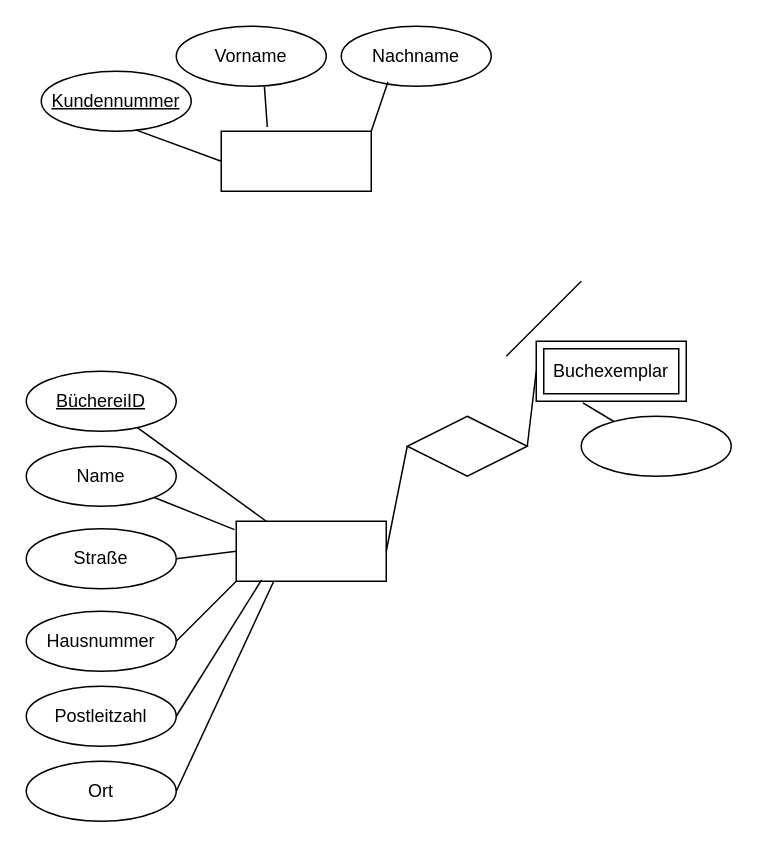
Some shapes in this 758 by 848 pixel diagram are drawn without their labels. Here are the shapes that lost their labels. From the top down, the centre of each, then its label:
the point at 295,160: Kunde
the point at 466,445: hält
the point at 655,445: Inventarnummer
the point at 310,550: Bücherei
